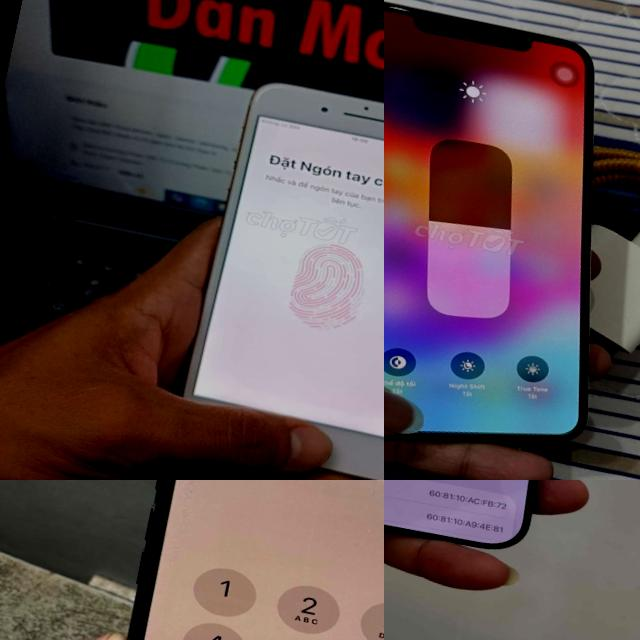gen_11: (384, 0, 640, 477), (125, 480, 384, 640)
gen_16: (384, 480, 532, 547)
gen_7_8: (143, 59, 384, 480)
scratch: (130, 480, 187, 539), (384, 0, 416, 14)
